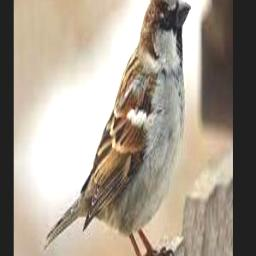Sparrow: (45, 0, 191, 256)
